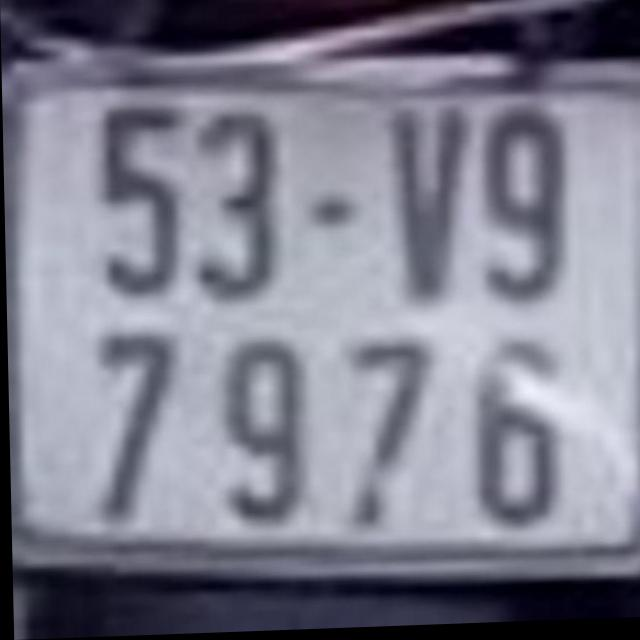3: (196, 111, 279, 310)
5: (96, 95, 191, 300)
6: (471, 332, 562, 533)
7: (93, 327, 181, 524), (349, 339, 432, 537)
9: (483, 106, 568, 314), (227, 341, 308, 529)
V: (387, 102, 474, 305)
